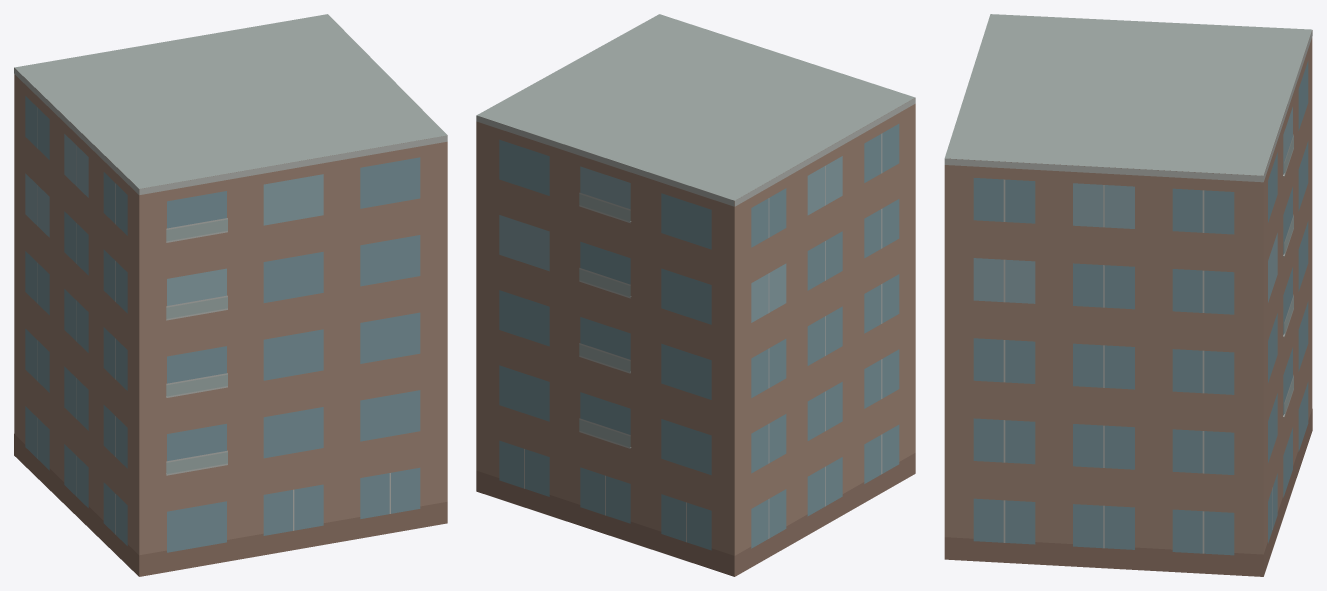
File: survey-upis-32880341.glb
3 views of the same model, side by side, from view 1: azimuth 30°, elevation 25°; view 2: azimuth 150°, elevation 25°; view 3: azimuth 270°, elevation 25° (orthographic). The views are drawn at different scales.
Parts seen in each view (by area): view 1: survey-upis-32880341.tmp; view 2: survey-upis-32880341.tmp; view 3: survey-upis-32880341.tmp.
Boxes of the visible parts, bbox=[...] form: survey-upis-32880341.tmp: bbox=[14, 14, 447, 576]; survey-upis-32880341.tmp: bbox=[476, 14, 915, 576]; survey-upis-32880341.tmp: bbox=[944, 14, 1312, 576].
Size of the model in its own units: 13.08 by 15.1 by 12.57.
